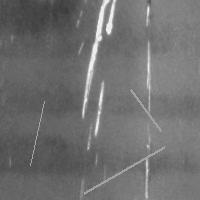scratches: (74, 1, 119, 124), (79, 142, 169, 198), (139, 1, 154, 196), (125, 84, 165, 135), (84, 77, 111, 150), (25, 96, 49, 170)
